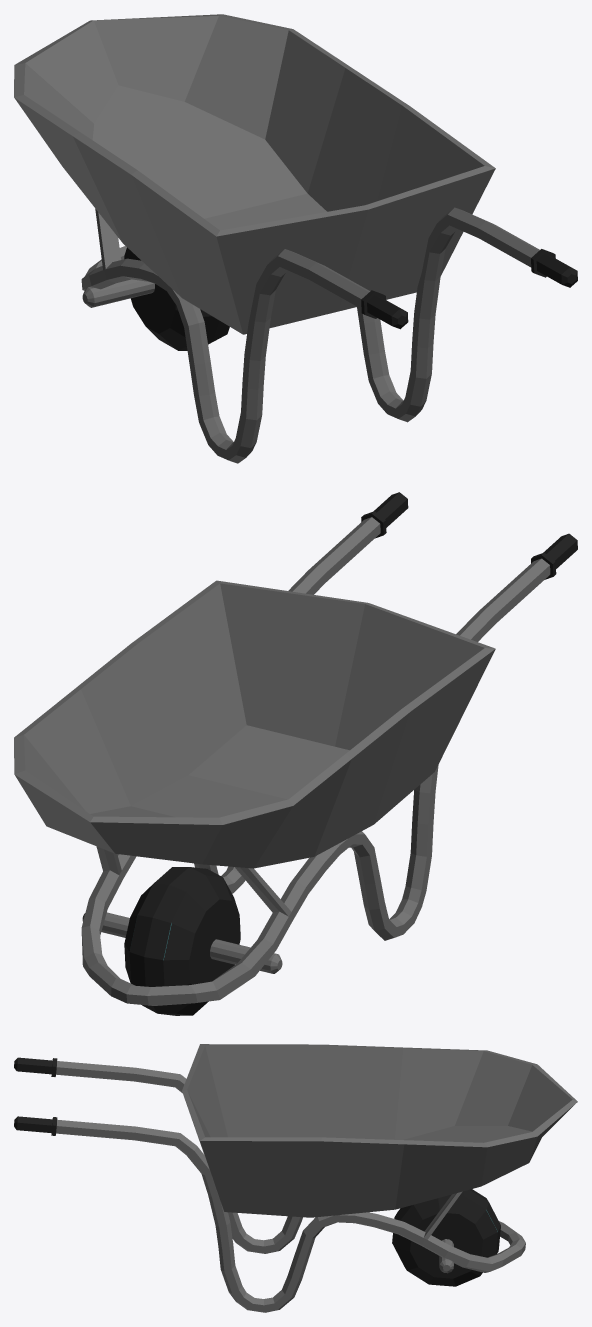
Rendered from Farmi_Kottikärryt.fbx.
3 renders of one model, top to bottom at view 1: azimuth 30°, elevation 25°; view 2: azimuth 150°, elevation 25°; view 3: azimuth 270°, elevation 25°, orthographic. The views are drawn at different scales.
Parts seen in each view (by area): view 1: Kottikärryt; view 2: Kottikärryt; view 3: Kottikärryt.
Part boxes in pixels (x1,y1,x2,y2): Kottikärryt: (14,14,577,463); Kottikärryt: (14,492,577,1015); Kottikärryt: (14,1044,577,1312).
Size of the model in its own units: 59.95 by 56.79 by 148.
